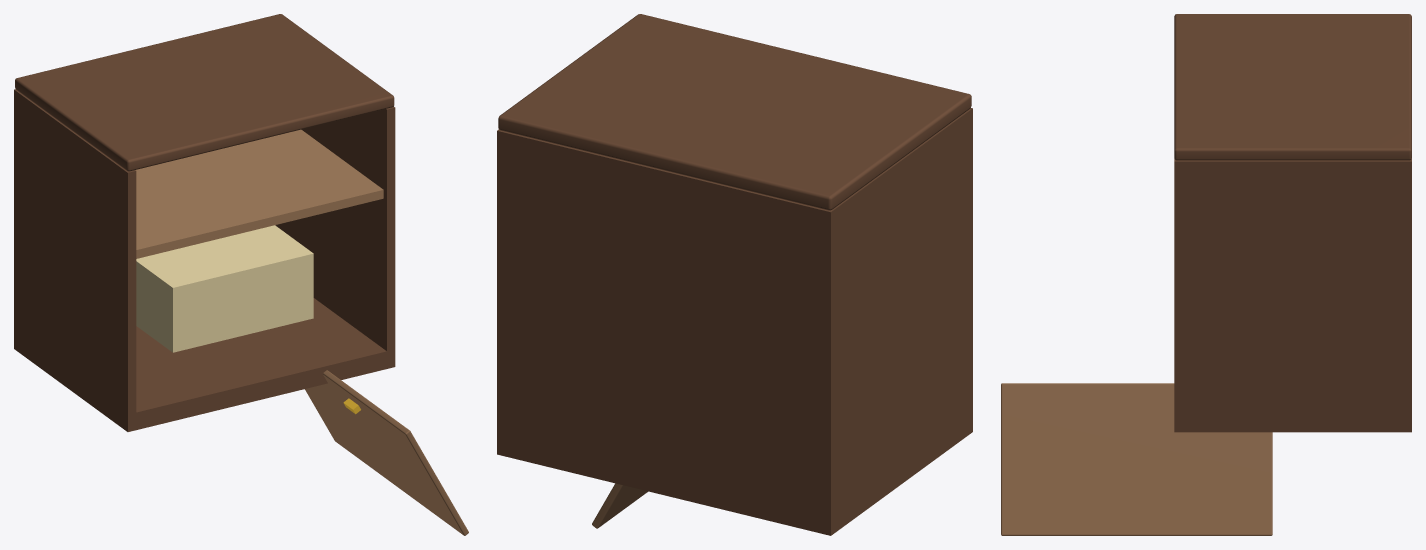
File: HideCabinet.fbx
The picture shows the model from 3 angles, left to right: view 1: azimuth 30°, elevation 25°; view 2: azimuth 150°, elevation 25°; view 3: azimuth 270°, elevation 25°; orthographic projection. The views are drawn at different scales.
Visible parts, largest first — view 1: HideCabinetBody, DoorBody; view 2: HideCabinetBody, DoorBody; view 3: HideCabinetBody, DoorBody.
Boxes of the visible parts, box(x1,y1,x2,y2) form: HideCabinetBody: box(14, 14, 395, 431); DoorBody: box(305, 370, 468, 535); HideCabinetBody: box(497, 14, 972, 535); DoorBody: box(592, 483, 648, 528); HideCabinetBody: box(1174, 14, 1411, 432); DoorBody: box(1001, 383, 1272, 535).
Size of the model in its own units: 0.95 by 1.28 by 1.21.
